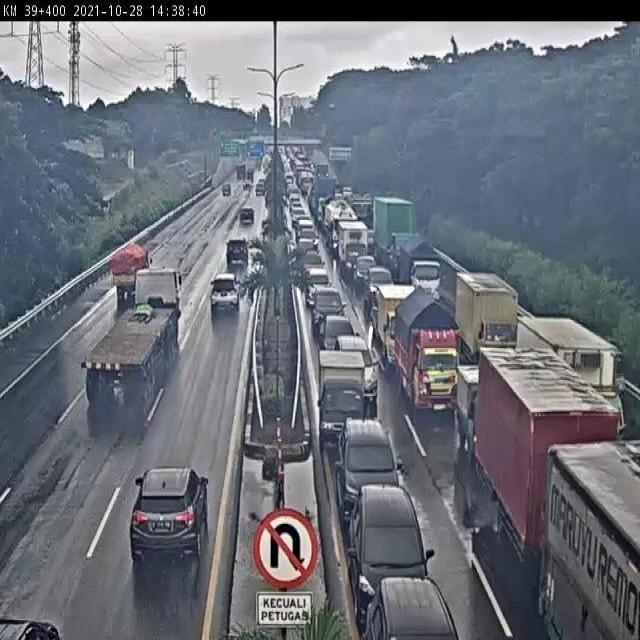big truck: (473, 344, 583, 561), (63, 275, 170, 445), (549, 441, 640, 639)
car: (106, 455, 236, 577), (359, 571, 462, 637), (350, 492, 425, 573), (342, 414, 412, 490), (337, 338, 381, 398), (340, 223, 372, 276), (322, 312, 358, 353), (202, 293, 240, 331), (311, 287, 345, 324), (221, 245, 251, 280), (367, 268, 391, 308), (355, 259, 384, 288), (309, 267, 334, 296), (235, 209, 257, 236), (302, 252, 323, 276)
small truck: (515, 312, 622, 419), (394, 297, 460, 411), (460, 270, 524, 362), (456, 364, 504, 451), (320, 351, 367, 432), (379, 287, 420, 356), (402, 242, 447, 302), (101, 250, 148, 290), (401, 248, 437, 297)
